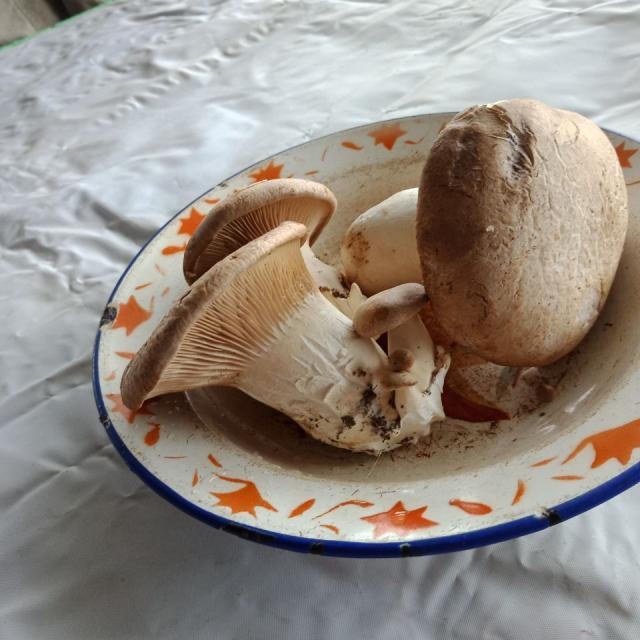Pleurotus cystidiosus: (123, 225, 449, 453), (423, 100, 627, 362), (184, 178, 352, 295)
